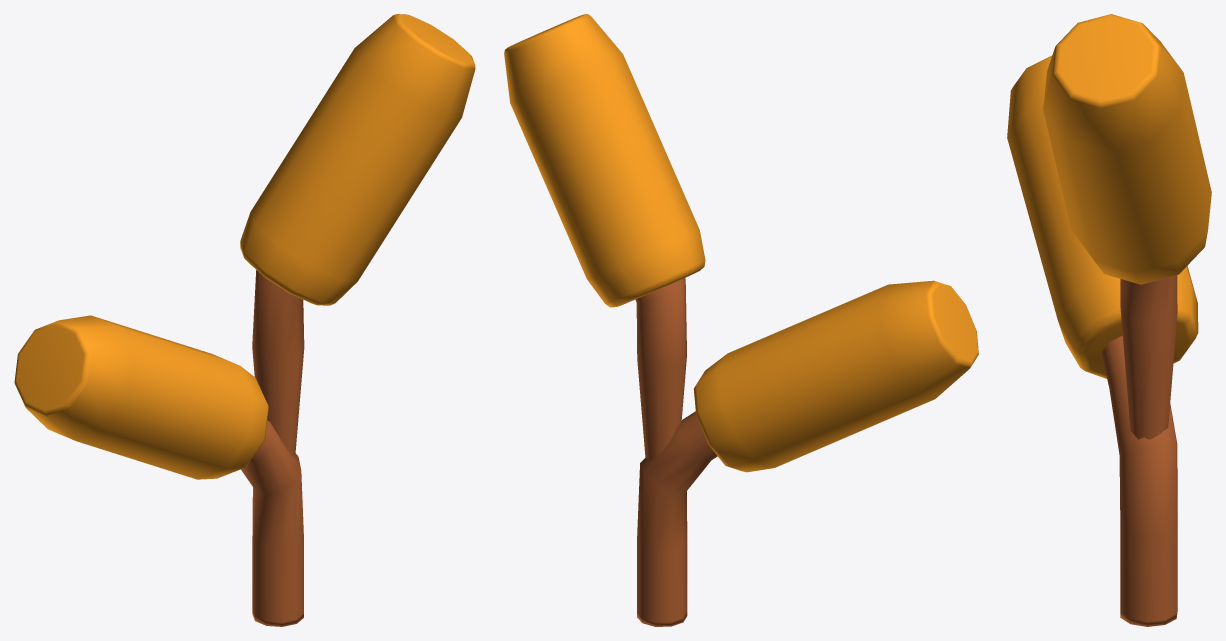
The model's file is SM_flower_1.fbx.
3 views of the same model, side by side, from view 1: azimuth 30°, elevation 25°; view 2: azimuth 150°, elevation 25°; view 3: azimuth 270°, elevation 25° (orthographic). The views are drawn at different scales.
Parts seen in each view (by area): view 1: pCylinder11; view 2: pCylinder11; view 3: pCylinder11.
Part boxes in pixels (<box>): pCylinder11: <box>14,14,475,626</box>; pCylinder11: <box>504,14,978,626</box>; pCylinder11: <box>1007,14,1211,626</box>.
Size of the model in its own units: 73.74 by 88.94 by 25.07.
